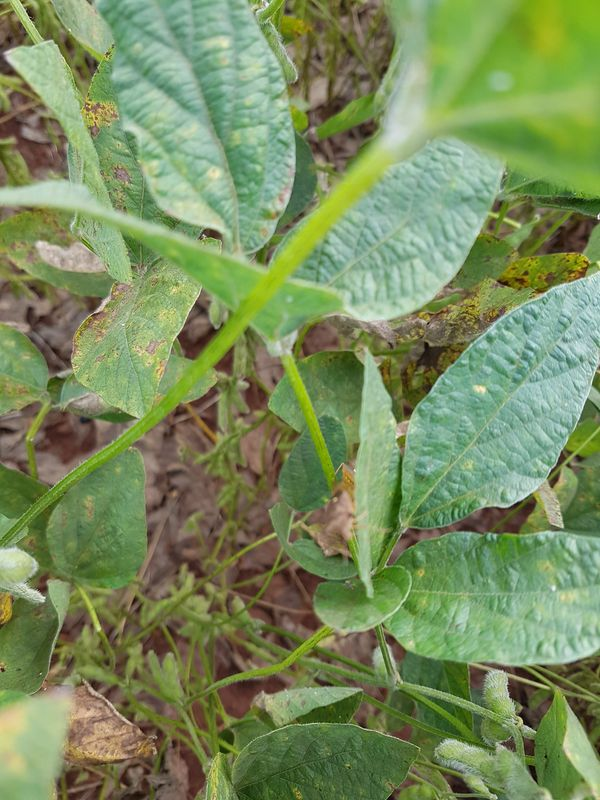Euschistus_heros_adulto: (326, 457, 363, 496)
